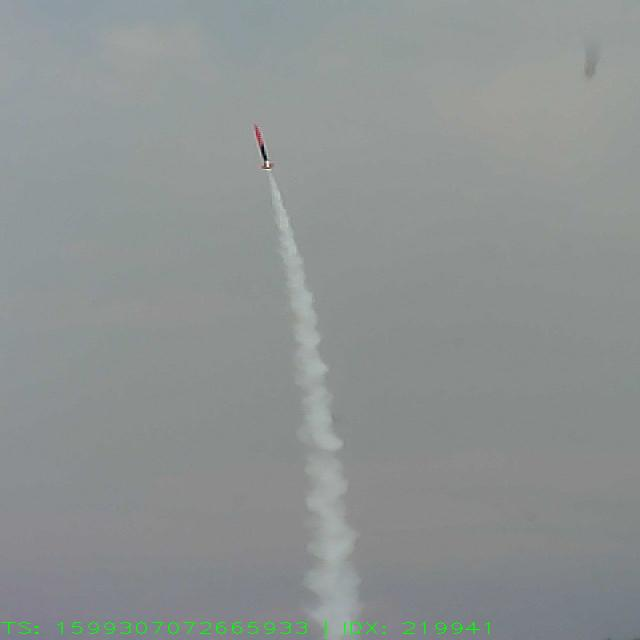Rocket: (253, 124, 275, 172)
